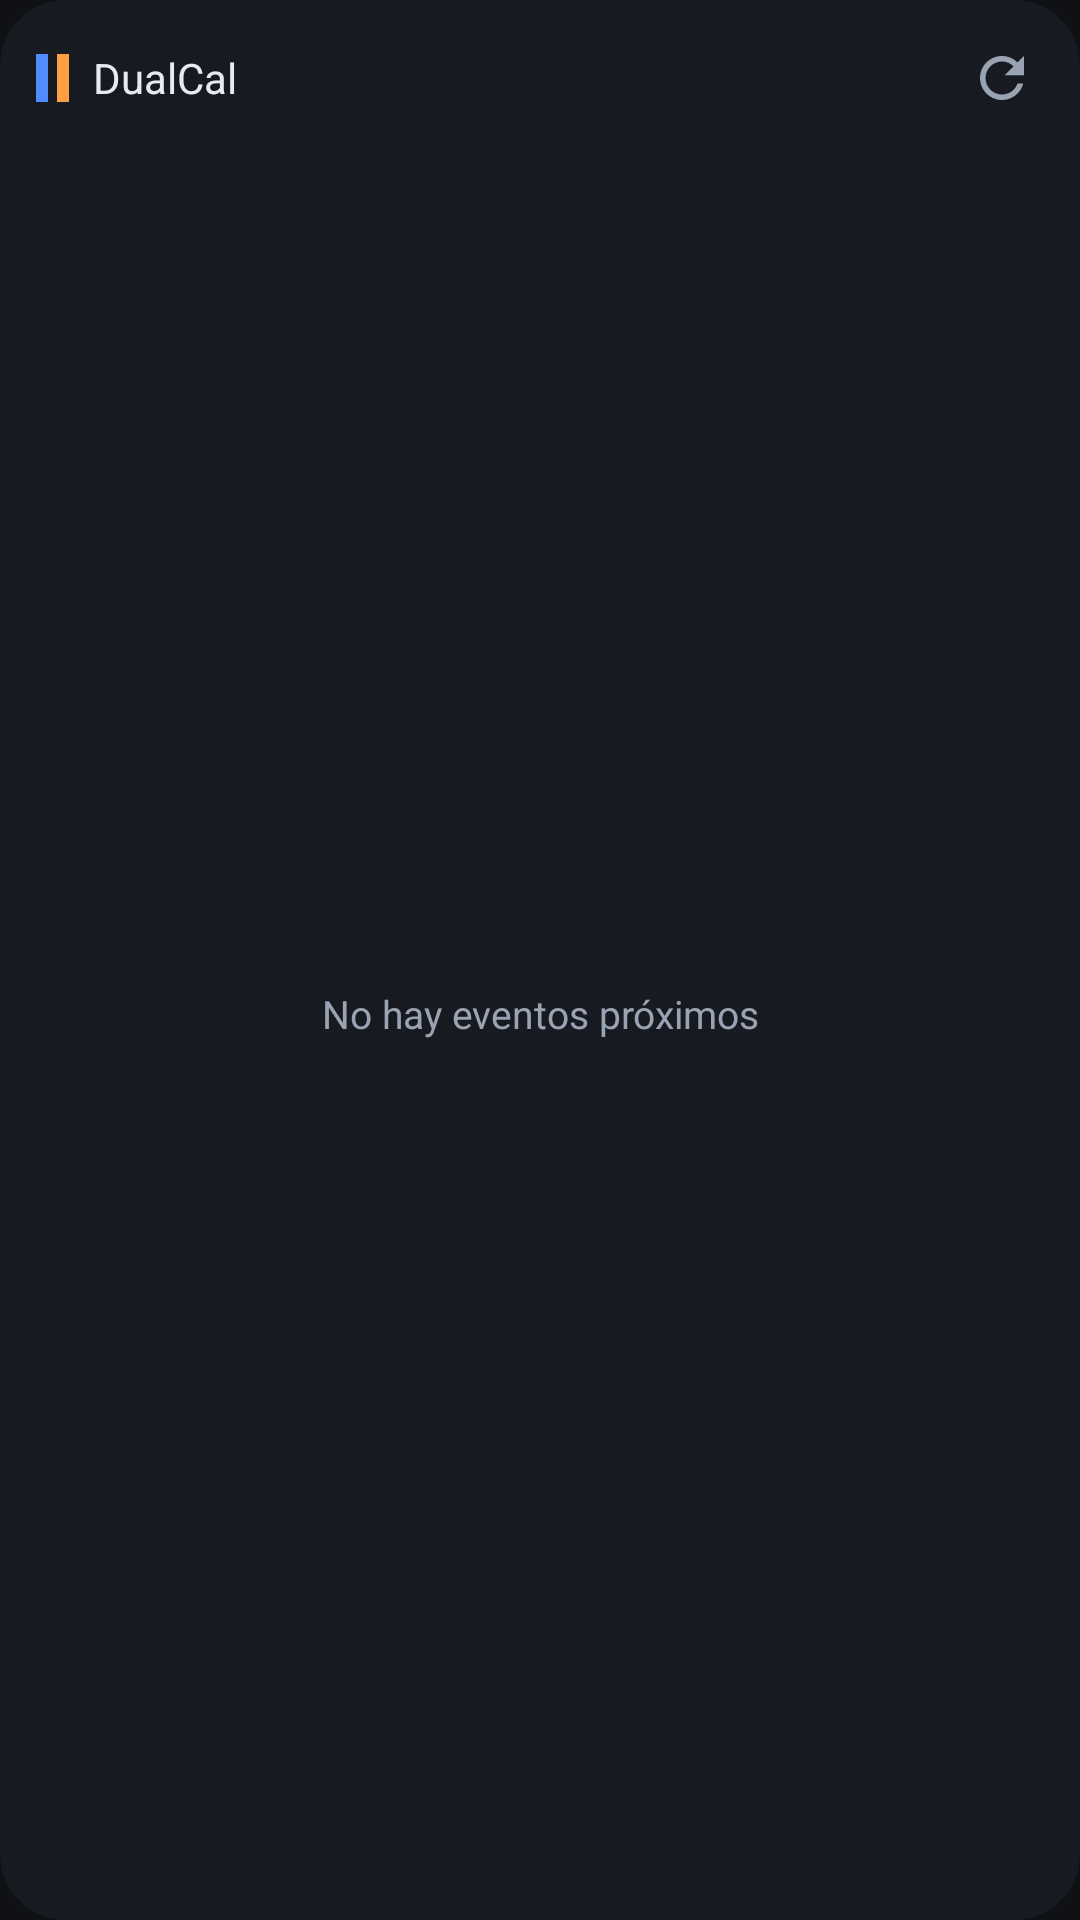

Point at icon controls on the screen. Image size 1080*1920, points as [x,y].
Refrescar: [1002,78]
